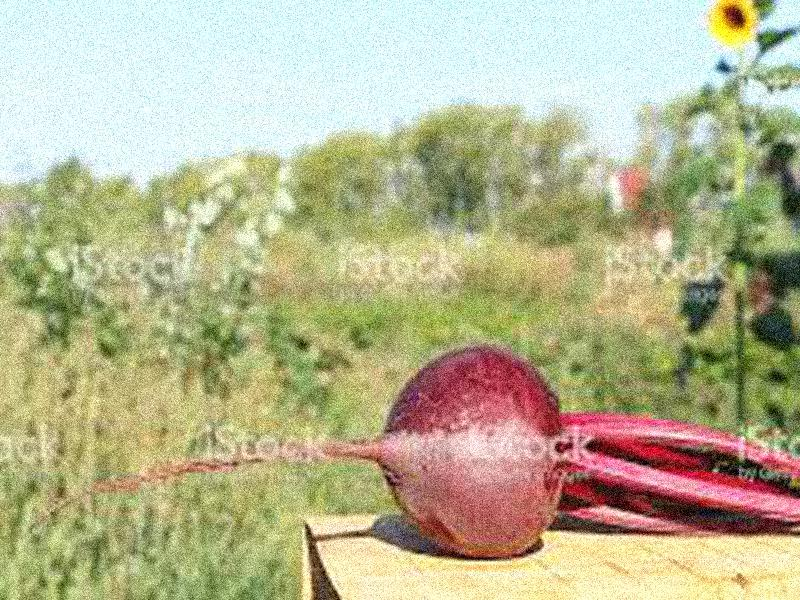Beet: (29, 348, 800, 557)
